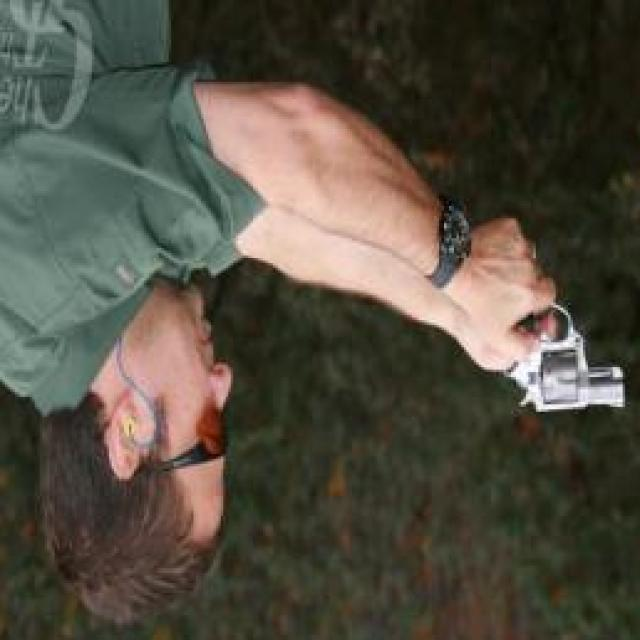pistol: (499, 272, 625, 429)
